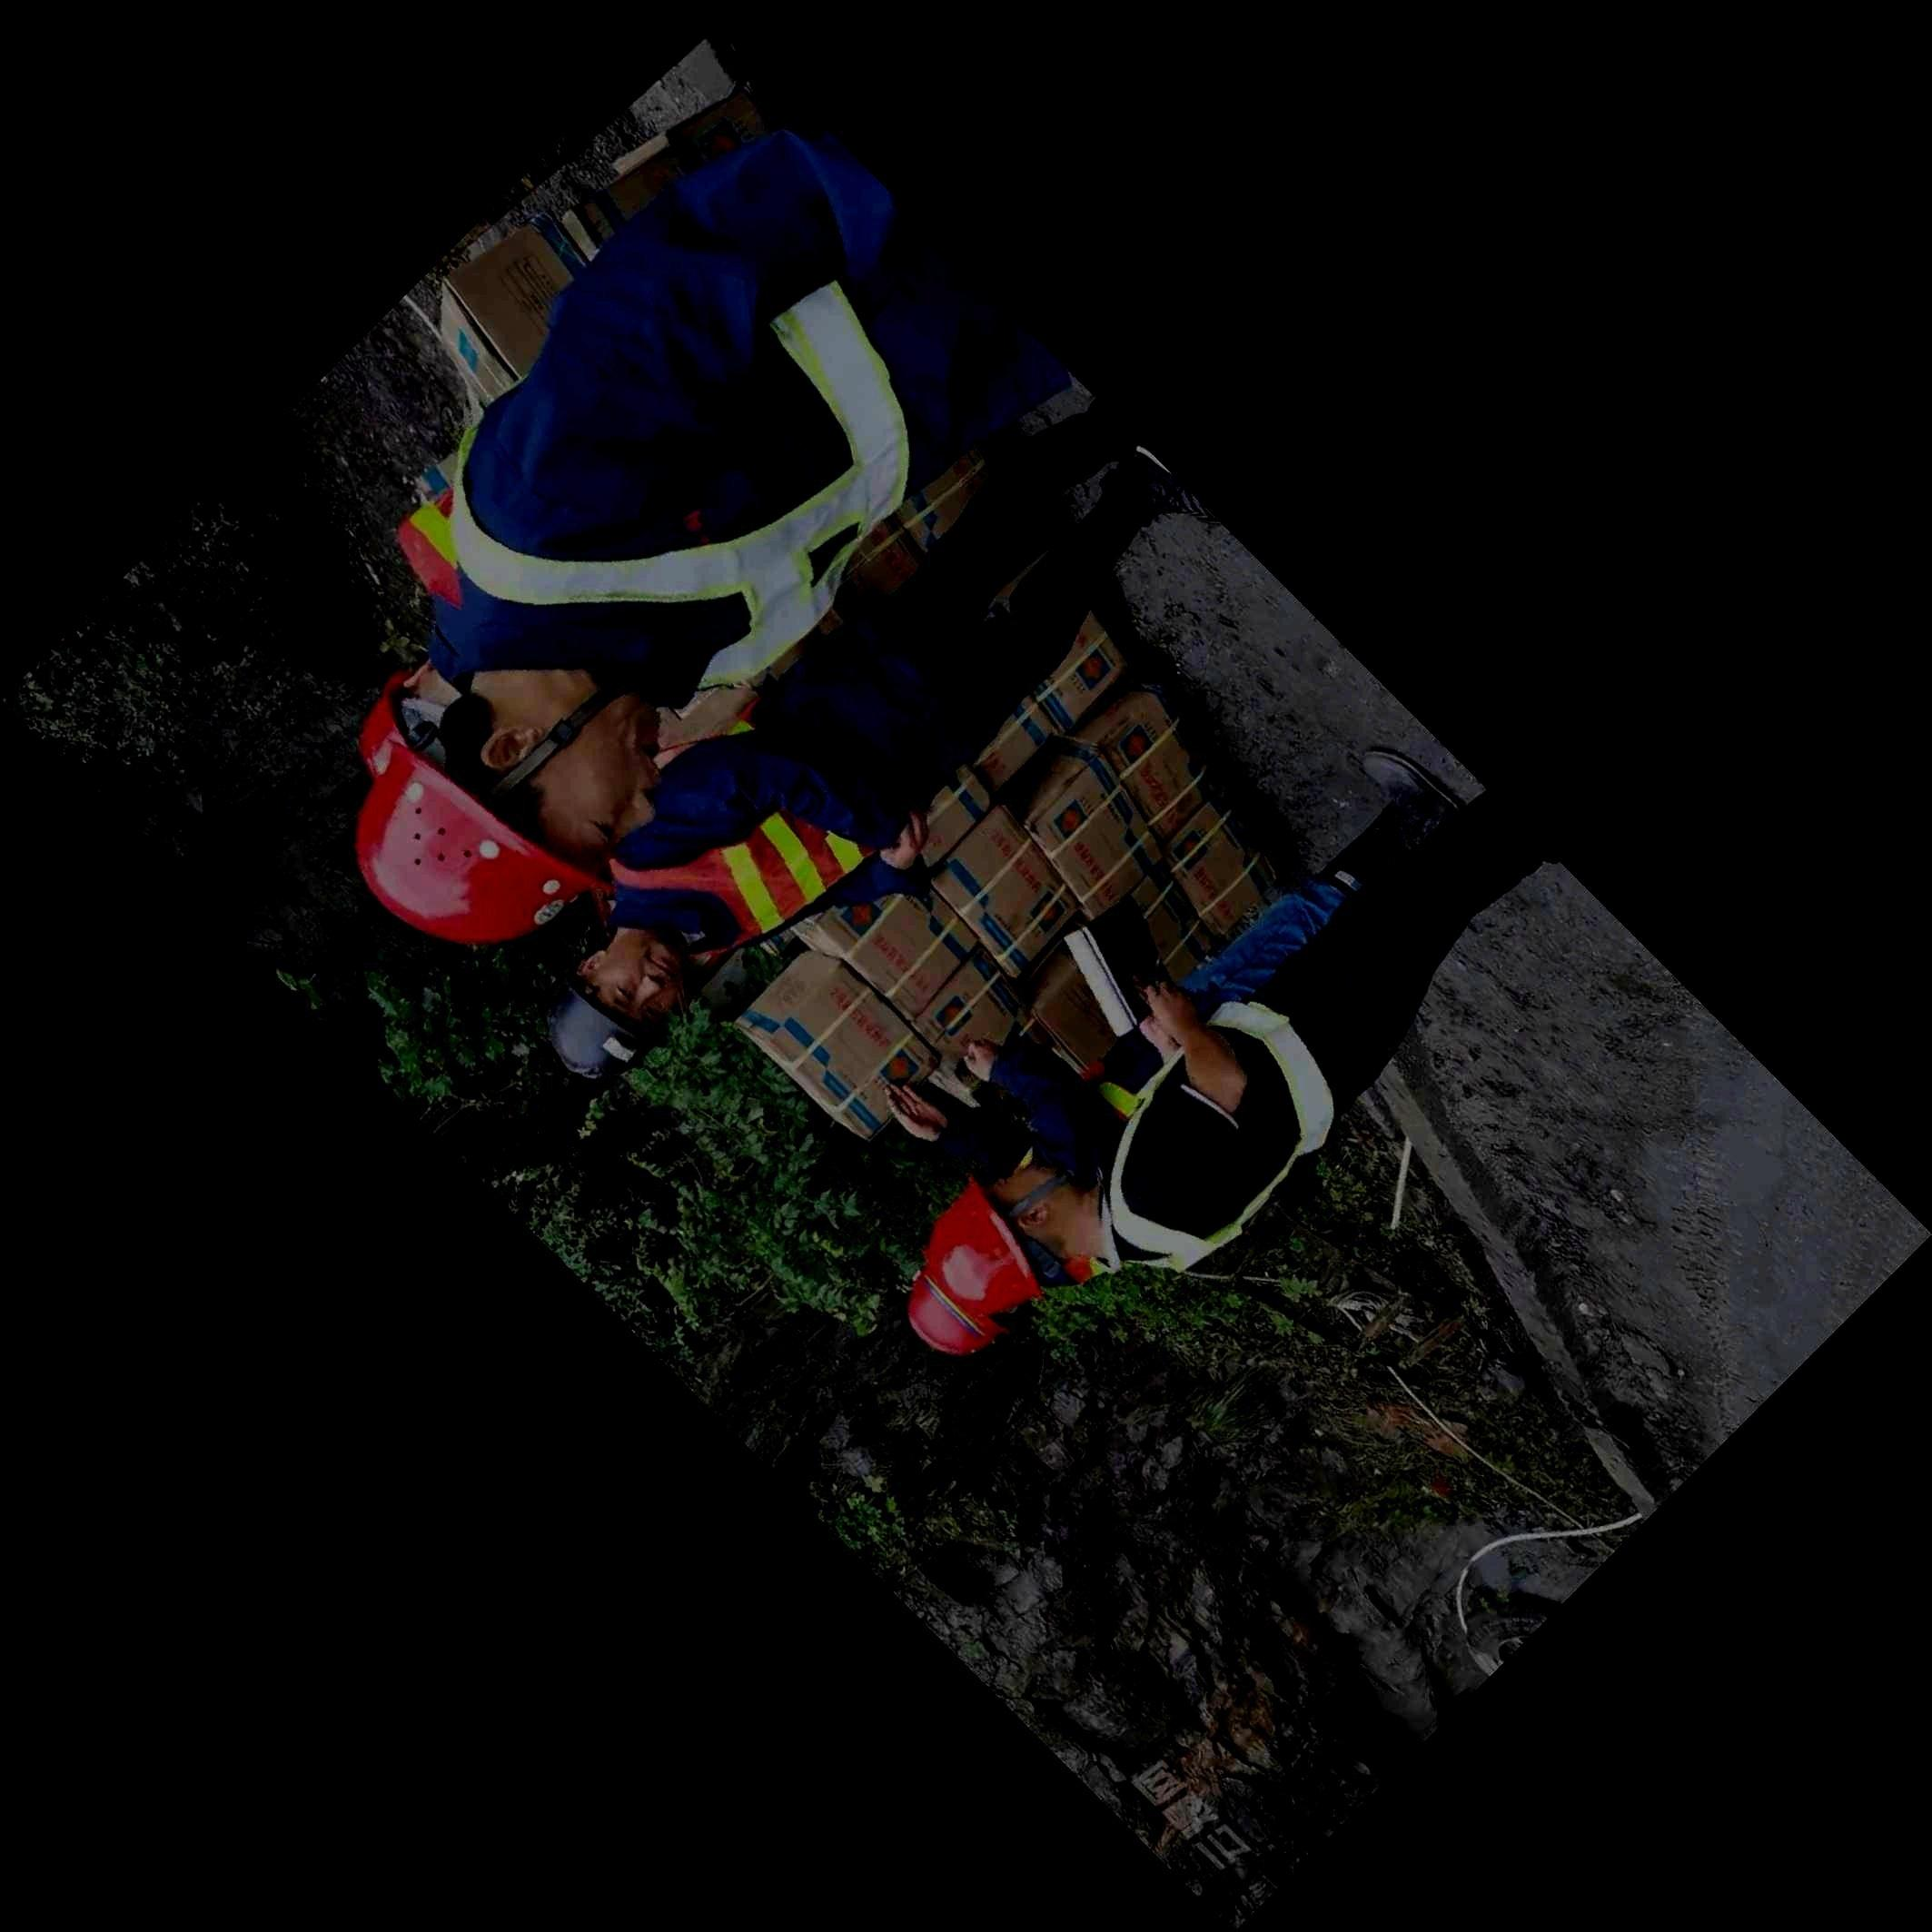helmet: (356, 686, 663, 945), (922, 1162, 1092, 1316), (548, 934, 683, 1079), (356, 655, 462, 778), (908, 1263, 1008, 1353)
